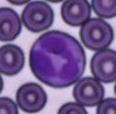E: (28, 31, 86, 88)
